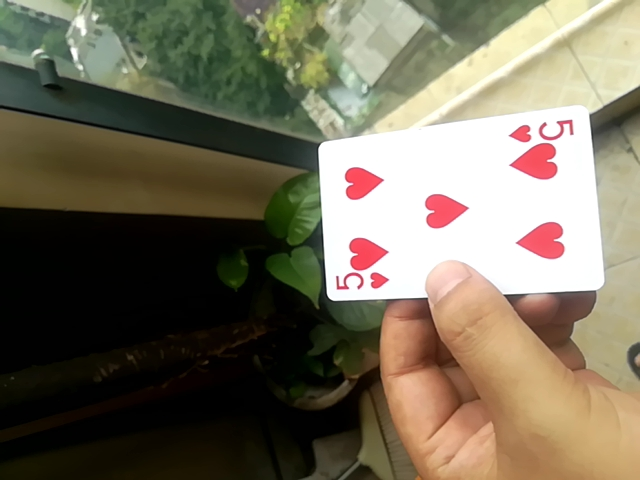hx 5: (311, 102, 606, 305)
